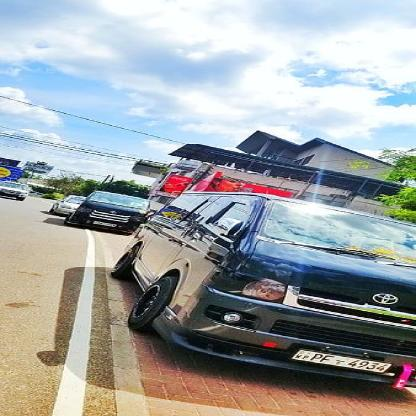number plate: (284, 348, 394, 375)
van front: (111, 189, 416, 390)
